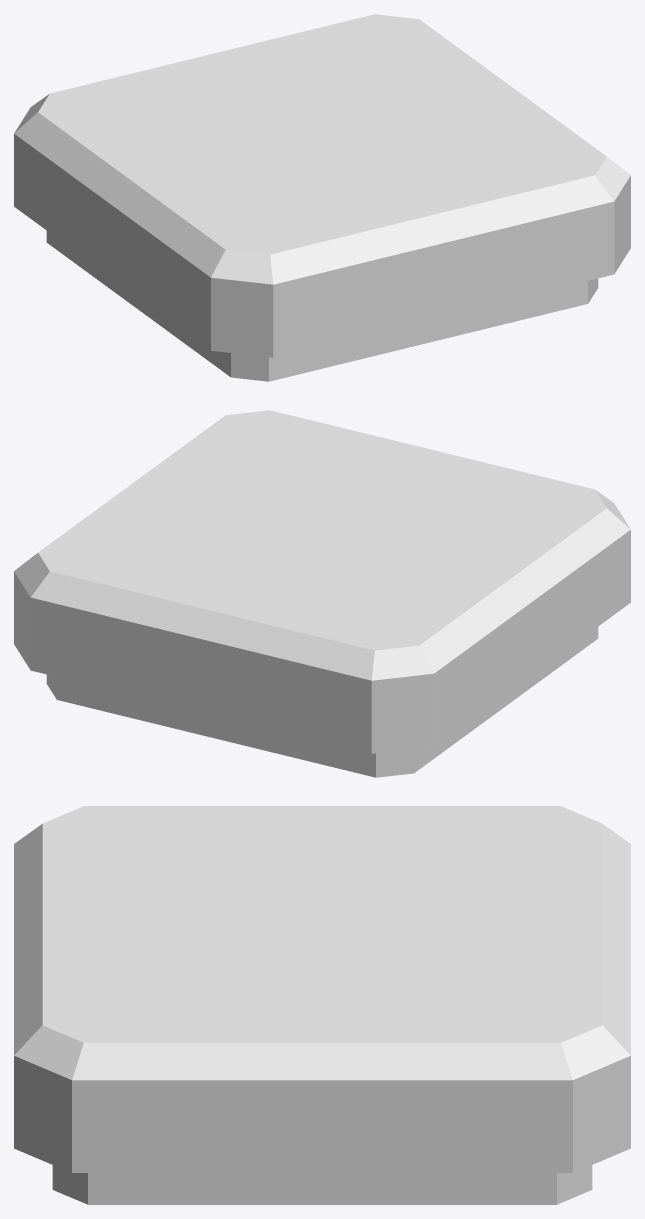
The model's file is Cont_Box_Lid.fbx.
3 renders of one model, top to bottom at view 1: azimuth 30°, elevation 25°; view 2: azimuth 150°, elevation 25°; view 3: azimuth 270°, elevation 25°, orthographic. The views are drawn at different scales.
Visible parts, largest first — view 1: Cont_Box_Lid; view 2: Cont_Box_Lid; view 3: Cont_Box_Lid.
Part boxes in pixels (<box>): Cont_Box_Lid: <box>14,14,630,381</box>; Cont_Box_Lid: <box>14,410,630,777</box>; Cont_Box_Lid: <box>14,806,630,1204</box>.
Bounding box in the file's own units: 0.9186 × 0.2732 × 0.9186.
